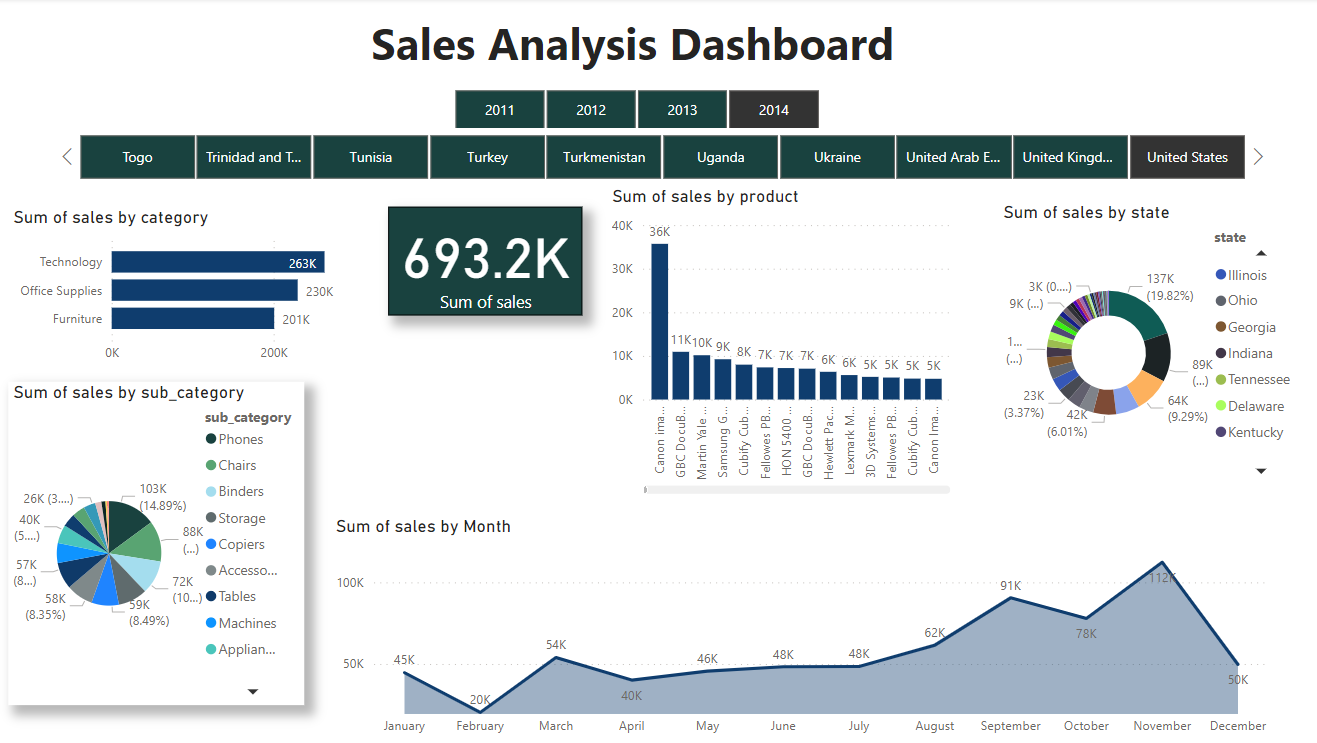

Layout of this report page (visuals, bound fields, positions):
{"tool":"powerbi","page":{"name":"Page 1","canvas":[1280,720],"ordinal":0},"visuals":[{"type":"slicer","fields":{"Values":["superstore_sales.order_date.Variation.Date Hierarchy.Year"]},"box":[416.1,82,400.4,51.9],"z":0},{"type":"barChart","fields":{"Category":["superstore_sales.category"],"Y":["Sum(superstore_sales.sales)"]},"box":[10.9,201.4,353.4,159.2],"z":1000},{"type":"card","fields":{"Values":["Sum(superstore_sales.sales)"]},"box":[377.5,201.4,186.9,104.9],"z":2000},{"type":"textbox","box":[355.8,8.4,569.2,73.6],"z":3000},{"type":"pieChart","fields":{"Y":["Sum(superstore_sales.sales)"],"Category":["superstore_sales.sub_category"]},"box":[10.9,370.3,285.8,312.4],"z":4000},{"type":"donutChart","fields":{"Y":["Sum(superstore_sales.sales)"],"Category":["superstore_sales.state"]},"box":[966,196.6,301.5,272.6],"z":5000},{"type":"slicer","fields":{"Values":["superstore_sales.country"]},"box":[54.3,125.4,1173.5,55.5],"z":6000},{"type":"areaChart","fields":{"Category":["superstore_sales.order_date.Variation.Date Hierarchy.Month"],"Y":["Sum(superstore_sales.sales)"]},"box":[322,499.3,911.8,220.7],"z":8000},{"type":"clusteredColumnChart","title":"Sum of sales by product","fields":{"Category":["superstore_sales.product_name"],"Y":["Sum(superstore_sales.sales)"]},"box":[600.6,196.6,336.5,302.7],"z":8001}]}

Visuals, with their boxes in screenshot pixels (x1, y1, x2, y2), scaled from the page's 1280x720 canvas onto the 1317x743 screenshot:
slicer - superstore_sales.order_date.Variation.Date Hierarchy.Year: rect(428, 85, 840, 138)
barChart - superstore_sales.category x Sum(superstore_sales.sales): rect(11, 208, 375, 372)
card - Sum(superstore_sales.sales): rect(388, 208, 581, 316)
textbox: rect(366, 9, 952, 85)
pieChart - Sum(superstore_sales.sales) x superstore_sales.sub_category: rect(11, 382, 305, 705)
donutChart - Sum(superstore_sales.sales) x superstore_sales.state: rect(994, 203, 1304, 484)
slicer - superstore_sales.country: rect(56, 129, 1263, 187)
areaChart - superstore_sales.order_date.Variation.Date Hierarchy.Month x Sum(superstore_sales.sales): rect(331, 515, 1269, 742)
"Sum of sales by product" clusteredColumnChart: rect(618, 203, 964, 515)
